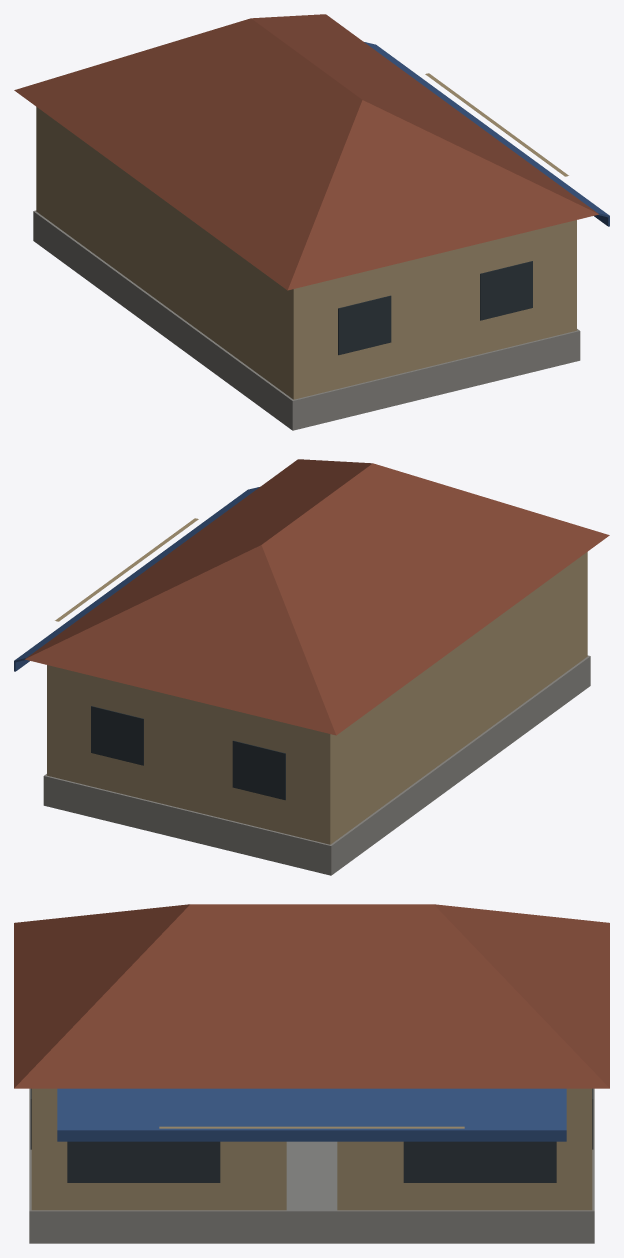
File: SM_Prop_cafe_building_12_LOD2.glb
3 views of the same model, one above another, from view 1: azimuth 30°, elevation 25°; view 2: azimuth 150°, elevation 25°; view 3: azimuth 270°, elevation 25° (orthographic). The views are drawn at different scales.
Visible parts, largest first — view 1: SM_Prop_cafe_building_12_LOD2; view 2: SM_Prop_cafe_building_12_LOD2; view 3: SM_Prop_cafe_building_12_LOD2.
Part boxes in pixels (x1=…): SM_Prop_cafe_building_12_LOD2: x1=14, y1=14, x2=609, y2=430; SM_Prop_cafe_building_12_LOD2: x1=14, y1=459, x2=609, y2=875; SM_Prop_cafe_building_12_LOD2: x1=14, y1=904, x2=609, y2=1243.
Size of the model in its own units: 8.6 by 5.7 by 11.7.
